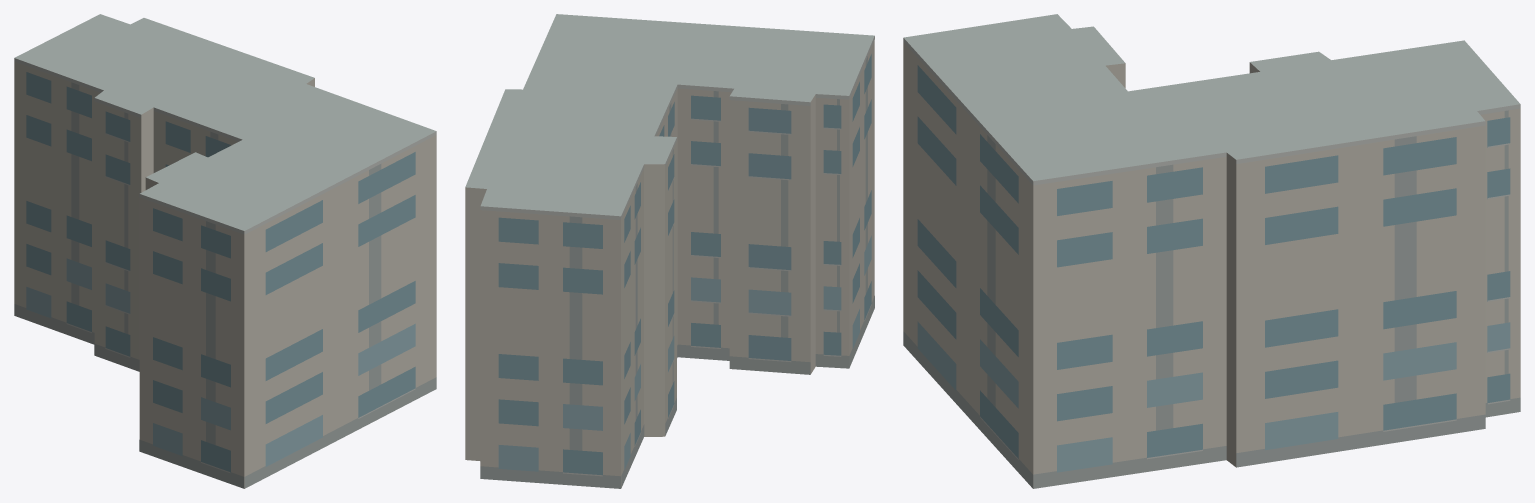
File: survey-upis-32865203.glb
3 renders of one model, left to right at view 1: azimuth 30°, elevation 25°; view 2: azimuth 150°, elevation 25°; view 3: azimuth 270°, elevation 25°, orthographic. The views are drawn at different scales.
Parts seen in each view (by area): view 1: survey-upis-32865203.tmp; view 2: survey-upis-32865203.tmp; view 3: survey-upis-32865203.tmp.
Part boxes in pixels (x1,y1,x2,y2): survey-upis-32865203.tmp: (14,14,436,488); survey-upis-32865203.tmp: (465,14,874,488); survey-upis-32865203.tmp: (903,14,1520,488).
Bounding box in the file's own units: 20.29 × 17.4 × 31.64.
